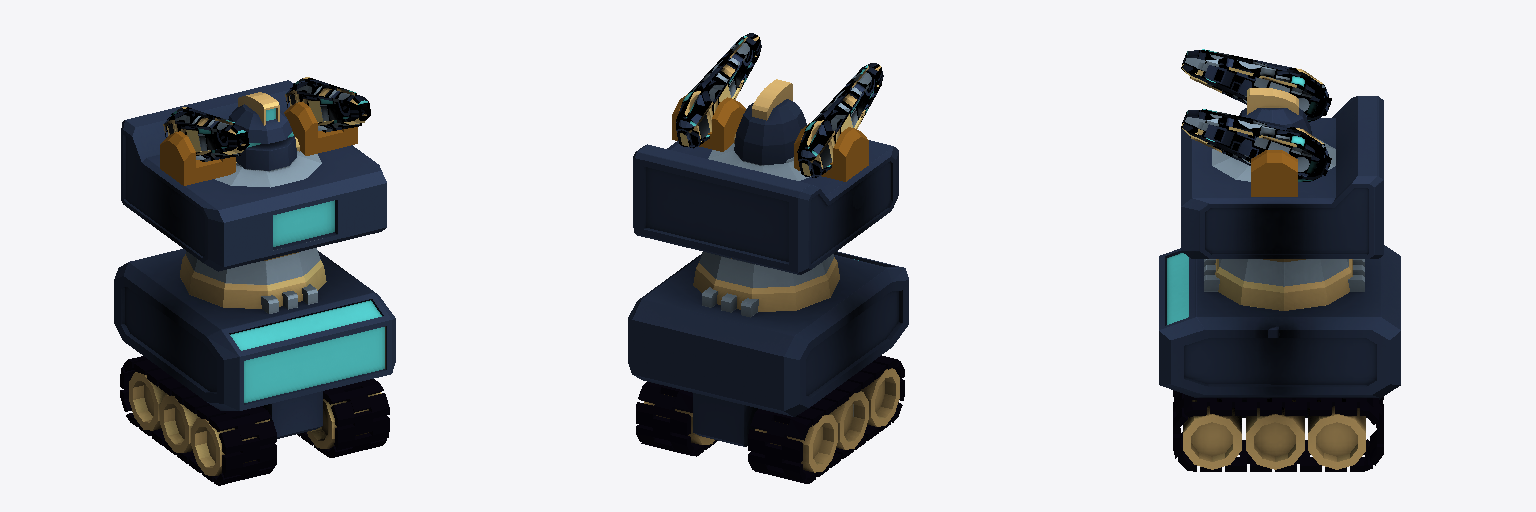
3 renders of one model, left to right at view 1: azimuth 30°, elevation 25°; view 2: azimuth 150°, elevation 25°; view 3: azimuth 270°, elevation 25°, orthographic.
Visible parts, largest first — view 1: Object020, Box031, Object013, Box032; view 2: Object020, Box031, Object013, Box032; view 3: Object020, Object013, Box032.
Part boxes in pixels (bbox=[...]): Object020: bbox=[114, 77, 395, 438]; Box031: bbox=[120, 356, 276, 485]; Object013: bbox=[129, 372, 381, 475]; Box032: bbox=[297, 379, 389, 457]; Object020: bbox=[628, 33, 908, 446]; Box031: bbox=[748, 355, 904, 483]; Object013: bbox=[644, 368, 899, 472]; Box032: bbox=[636, 382, 717, 456]; Object020: bbox=[1159, 49, 1400, 417]; Object013: bbox=[1183, 398, 1365, 469]; Box032: bbox=[1173, 393, 1383, 471].
Bounding box in the file's own units: 179 × 344 × 214.
Materials: 4 (2 with a texture image).